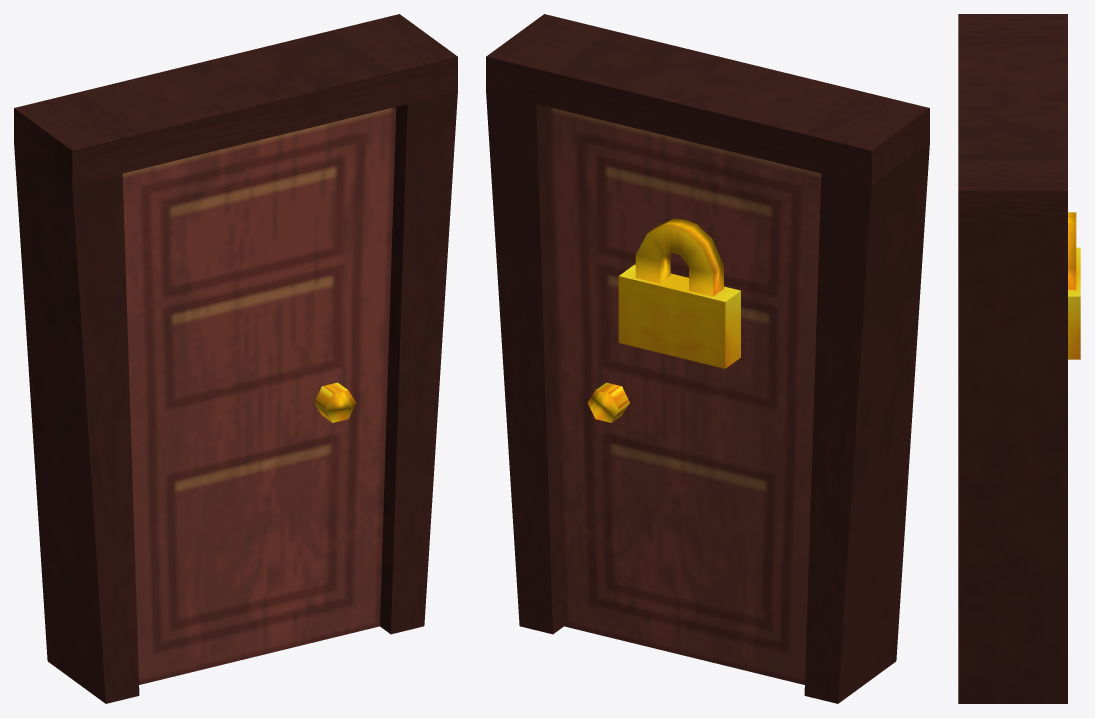
The model's file is Door.fbx.
The picture shows the model from 3 angles, left to right: view 1: azimuth 30°, elevation 25°; view 2: azimuth 150°, elevation 25°; view 3: azimuth 270°, elevation 25°; orthographic projection. The views are drawn at different scales.
Visible parts, largest first — view 1: Door, Frame, Handle; view 2: Door, Frame, Lock, Handle; view 3: Frame, Lock.
Part boxes in pixels (x1,y1,x2,y2): Door: [122, 107, 396, 684]; Frame: [14, 14, 457, 703]; Handle: [314, 382, 356, 422]; Door: [547, 107, 821, 684]; Frame: [486, 14, 929, 703]; Lock: [618, 218, 740, 368]; Handle: [587, 382, 629, 422]; Frame: [958, 14, 1067, 703]; Lock: [1068, 212, 1080, 359].
Size of the model in its own units: 2.3 by 3.2 by 0.6723.
